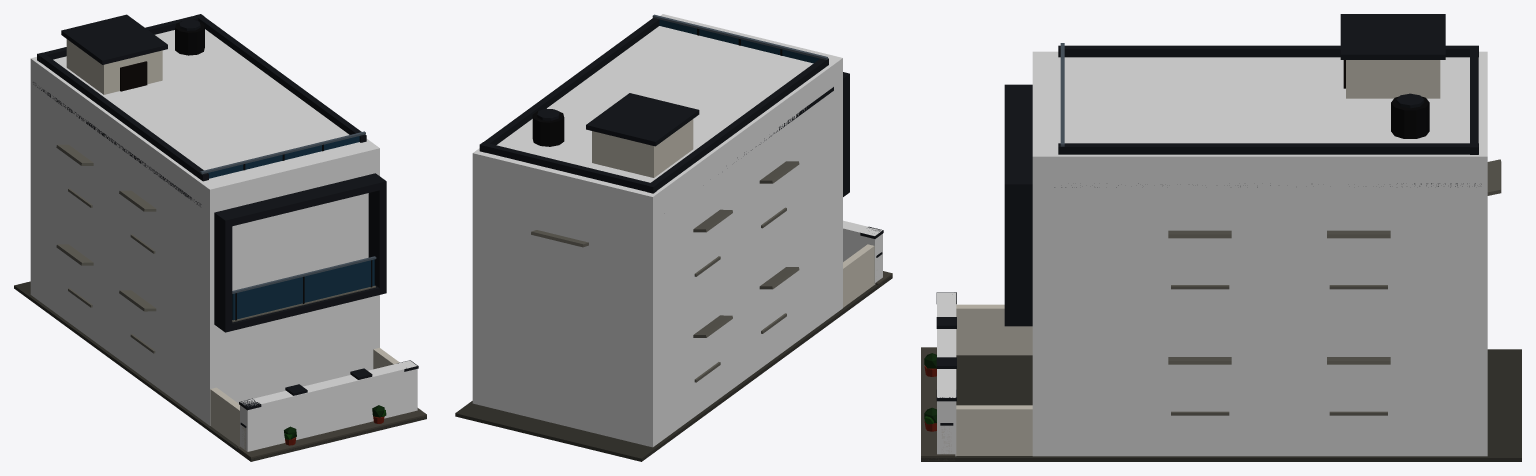
The model's file is CHN_047_row_modern.glb.
3 views of the same model, side by side, from view 1: azimuth 30°, elevation 25°; view 2: azimuth 150°, elevation 25°; view 3: azimuth 270°, elevation 25° (orthographic). The views are drawn at different scales.
Visible parts, largest first — view 1: COL_Main, LOD0, COL_Compound; view 2: COL_Main, LOD0, COL_Compound; view 3: COL_Main, LOD0, COL_Compound.
Boxes of the visible parts, bbox=[...] form: COL_Main: bbox=[30, 29, 379, 425]; LOD0: bbox=[14, 14, 426, 461]; COL_Compound: bbox=[240, 360, 417, 451]; COL_Main: bbox=[472, 14, 842, 447]; LOD0: bbox=[455, 14, 892, 461]; COL_Compound: bbox=[843, 220, 882, 284]; COL_Main: bbox=[1032, 51, 1487, 456]; LOD0: bbox=[921, 14, 1521, 461]; COL_Compound: bbox=[937, 292, 956, 456].
Size of what is drawn, in the model's own units: 6.65 by 8.99 by 14.
